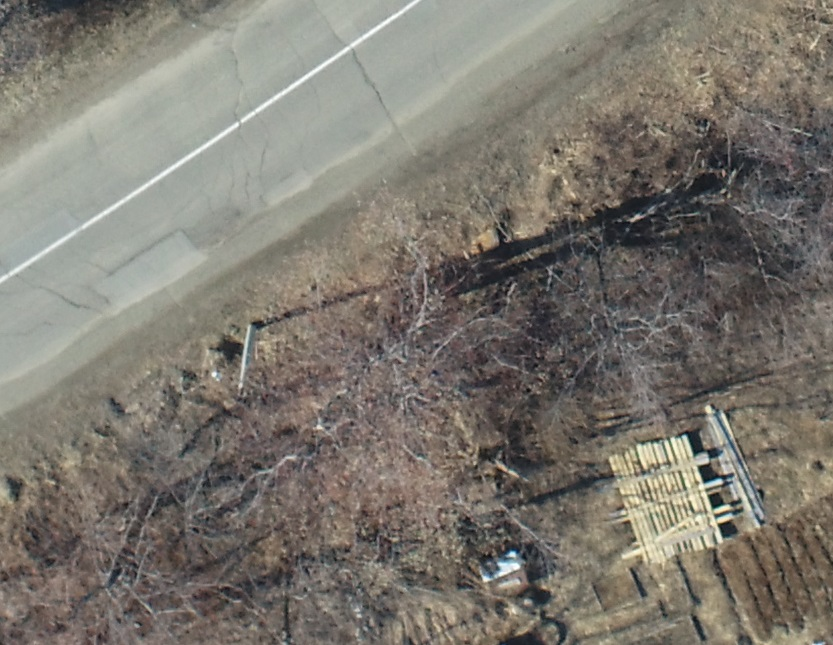opora: (230, 299, 324, 399)
